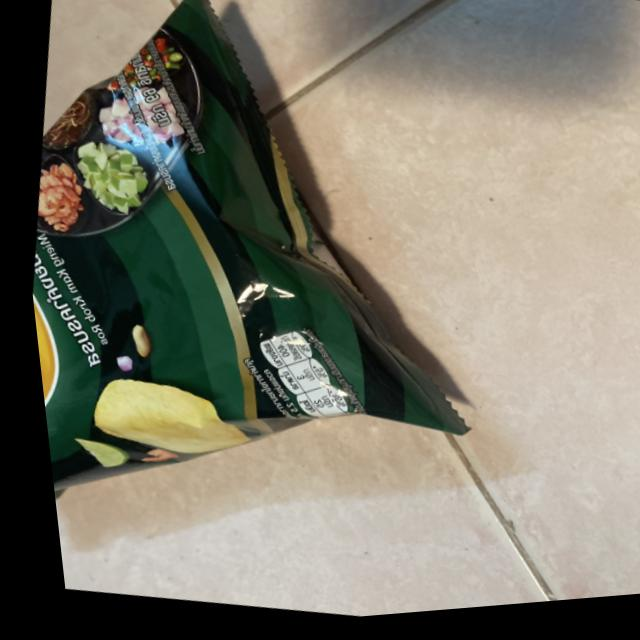Laygreen: (0, 0, 549, 602)
